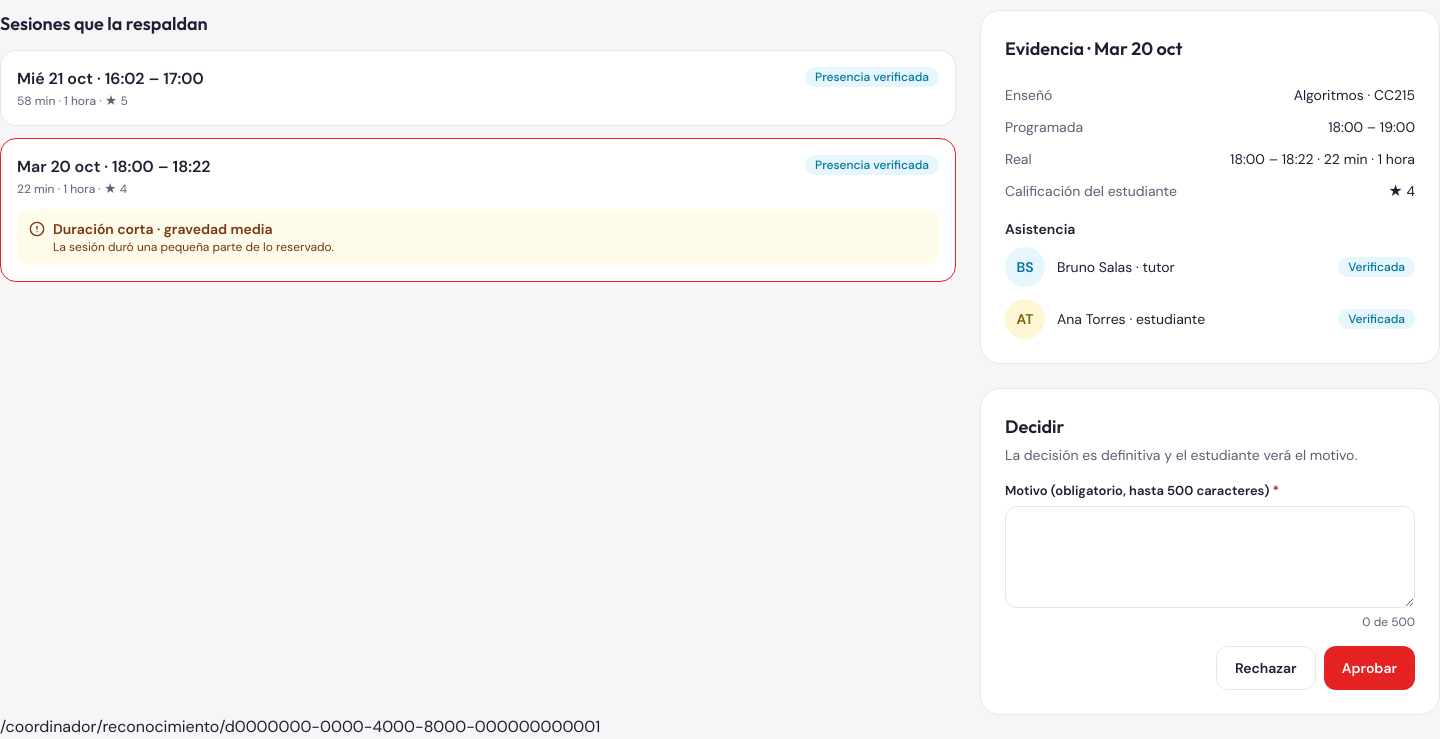
it: FE-51 deciding a recognition case › approves in two steps and then shows the decision that stands, final
(page scrolled)
Type "  Cumple las horas con presencia verificada.  " into the text box. click: coordinates (1210, 557)
box: [1005,506,1415,608]
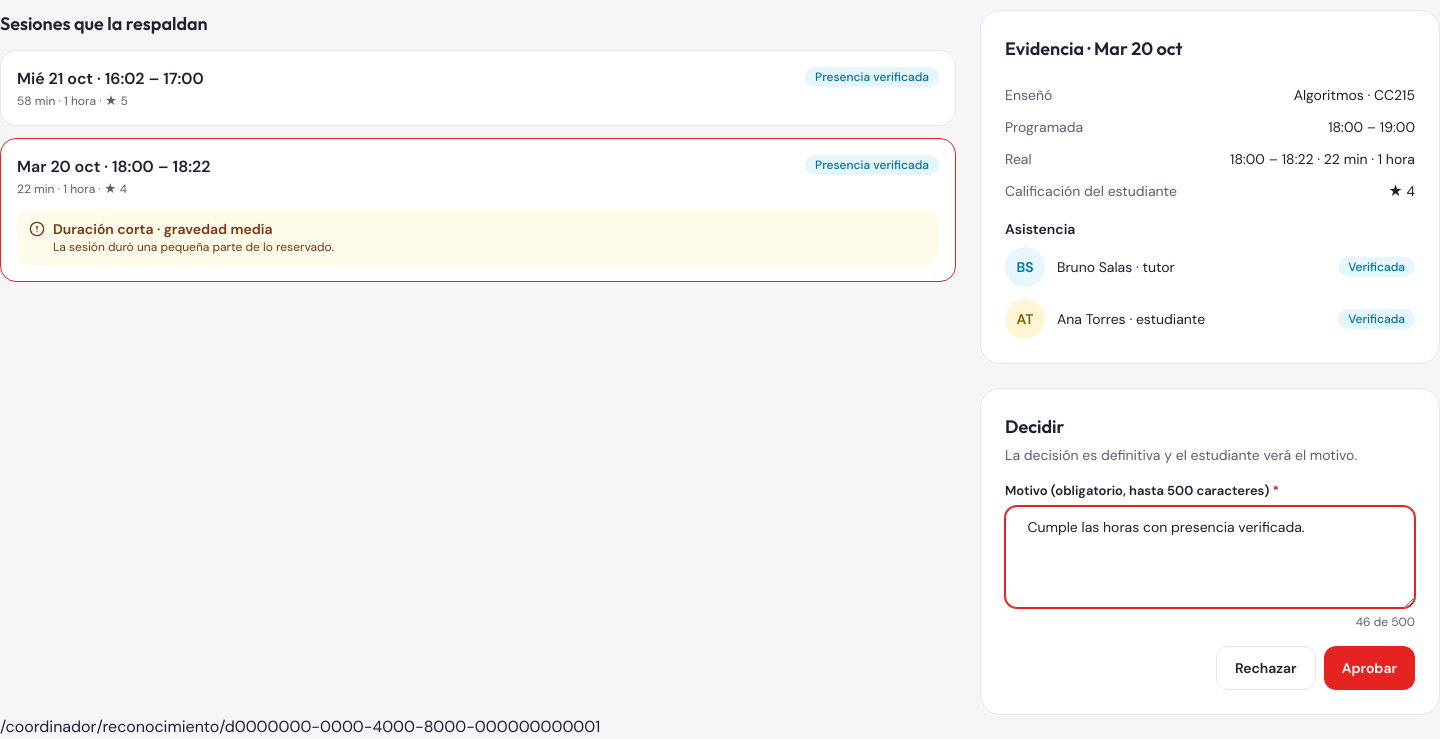
Click the button "Aprobar". click: coordinates (1369, 668)
box: [1324,646,1415,690]
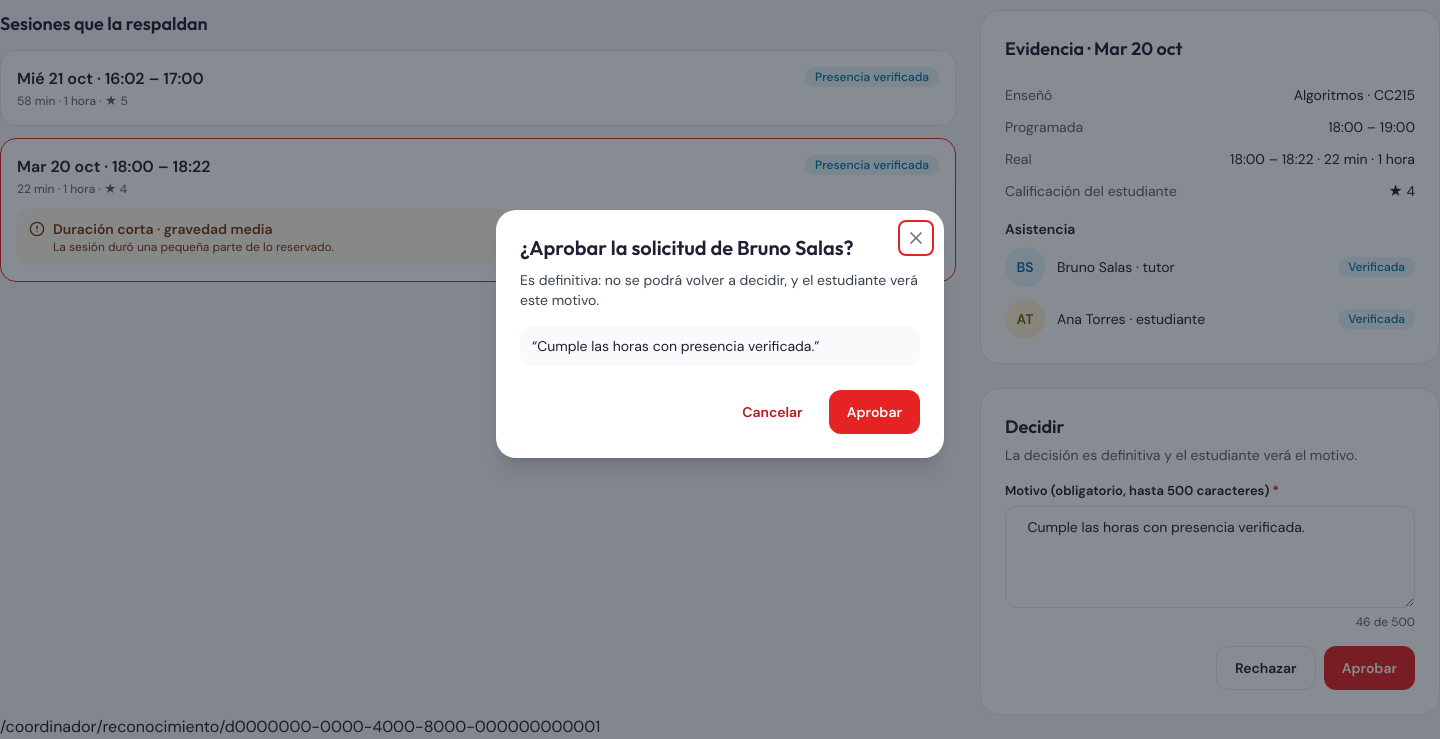
Click the button "Aprobar". click: coordinates (874, 412)
box: [829,390,920,434]
(page scrolled)
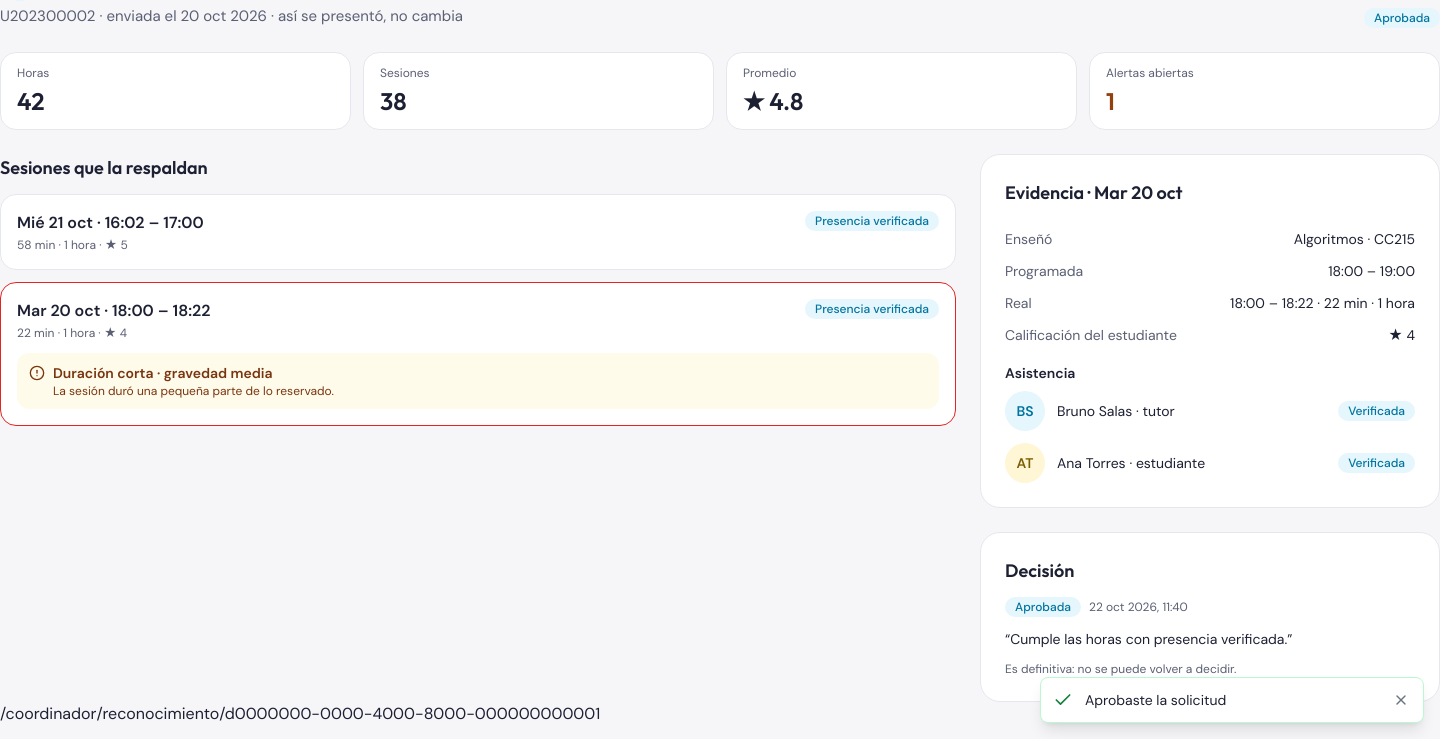
Expected: the text "“Cumple las horas con presencia verificada.”" is shown, [1005,630,1292,648]
Expected: the text "Es definitiva: no se puede volver a decidir." is shown, [1005,660,1236,676]
Expected: the text "22 oct 2026, 11:40" is shown, [1089,598,1188,614]
